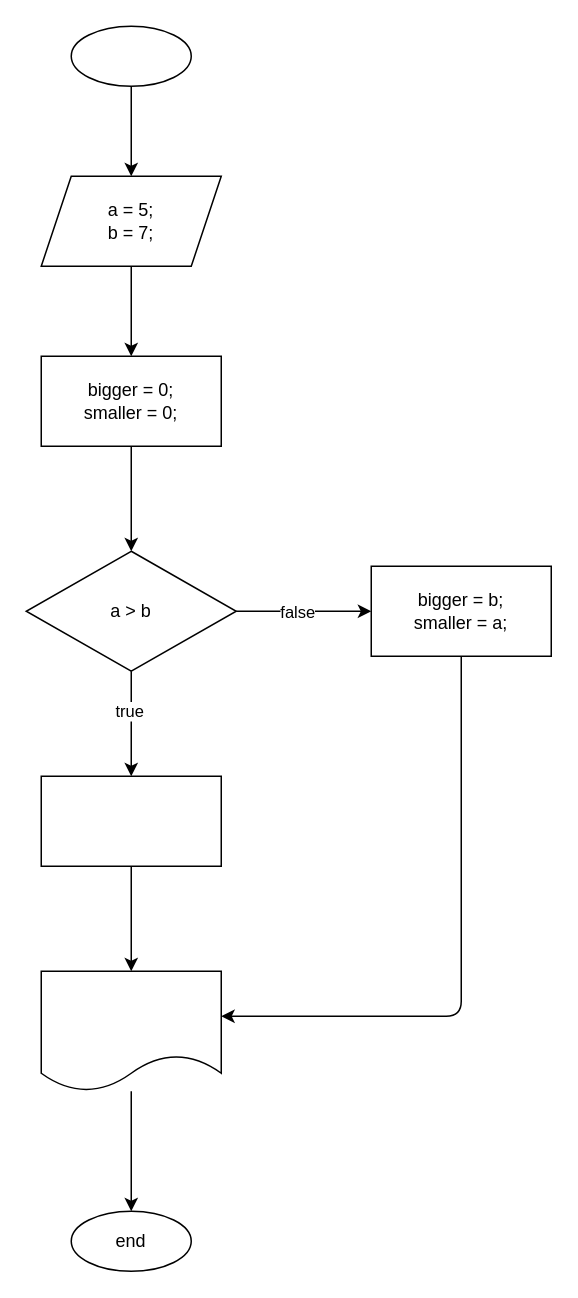
Image size: 578x1298. Some labels were removed from this diagram. The box of each missing label's shape, as (x1, y1, x2, y2) in pixels:
bigger = a; smaller = b;: (40, 775, 221, 866)
bigger smaller: (40, 970, 221, 1091)
start: (70, 25, 191, 86)
